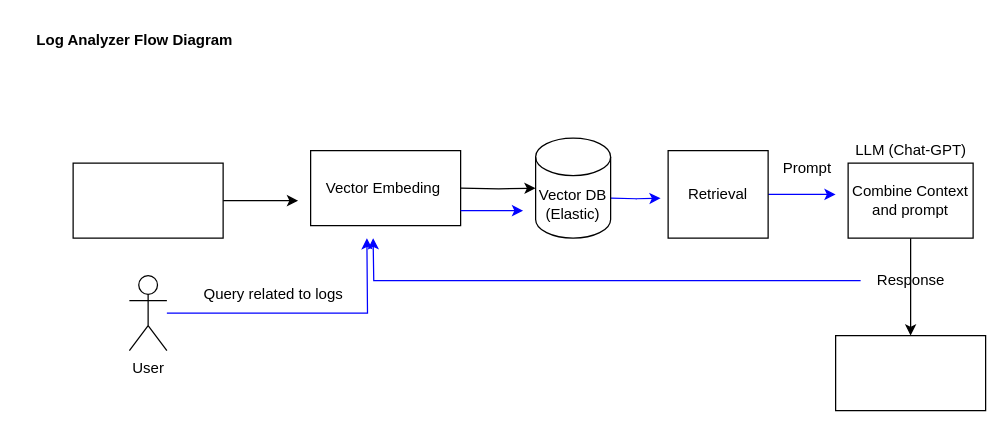
Some shapes in this 1008 by 433 pixel diagram are drawn without their labels. The box of each missing label's shape, as (x1, y1, x2, y2) in pixels:
log file.txt: (72, 162, 223, 238)
UI: (834, 334, 986, 411)
